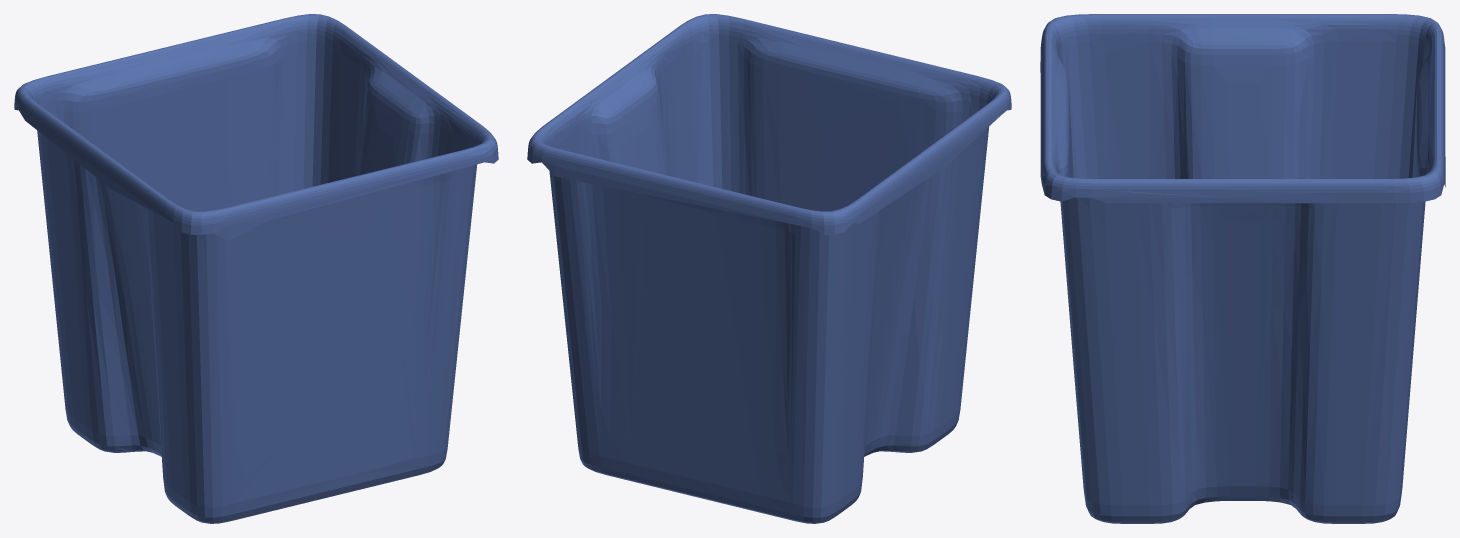
File: sh-kl-recycling-bin.glb
The picture shows the model from 3 angles, left to right: view 1: azimuth 30°, elevation 25°; view 2: azimuth 150°, elevation 25°; view 3: azimuth 270°, elevation 25°; orthographic projection. The views are drawn at different scales.
Parts seen in each view (by area): view 1: recyling_bin; view 2: recyling_bin; view 3: recyling_bin.
Part boxes in pixels (x1,y1,x2,y2): recyling_bin: (14,14,498,523); recyling_bin: (527,14,1011,523); recyling_bin: (1040,14,1445,523).
Bounding box in the file's own units: 0.9999 × 1 × 1.
